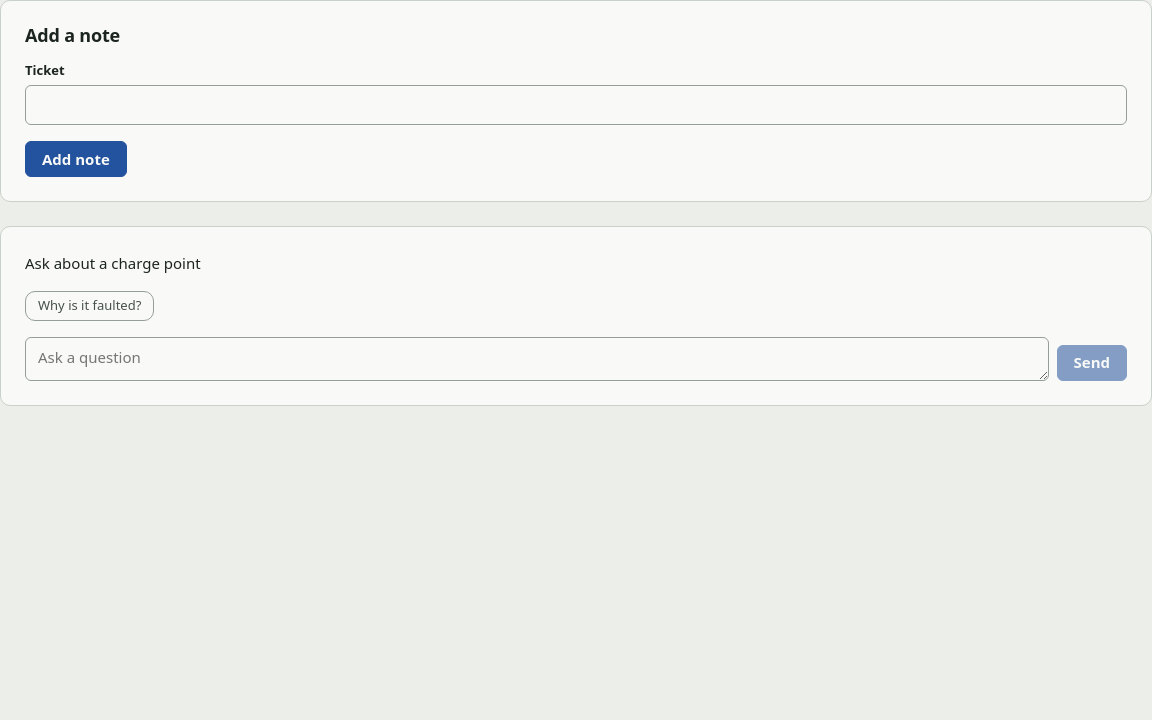
Test: running an app › confirms with the header the API requires
Step 1. Type "T-2" into the field labelled "Ticket" → (576, 105), box [25, 85, 1127, 125]
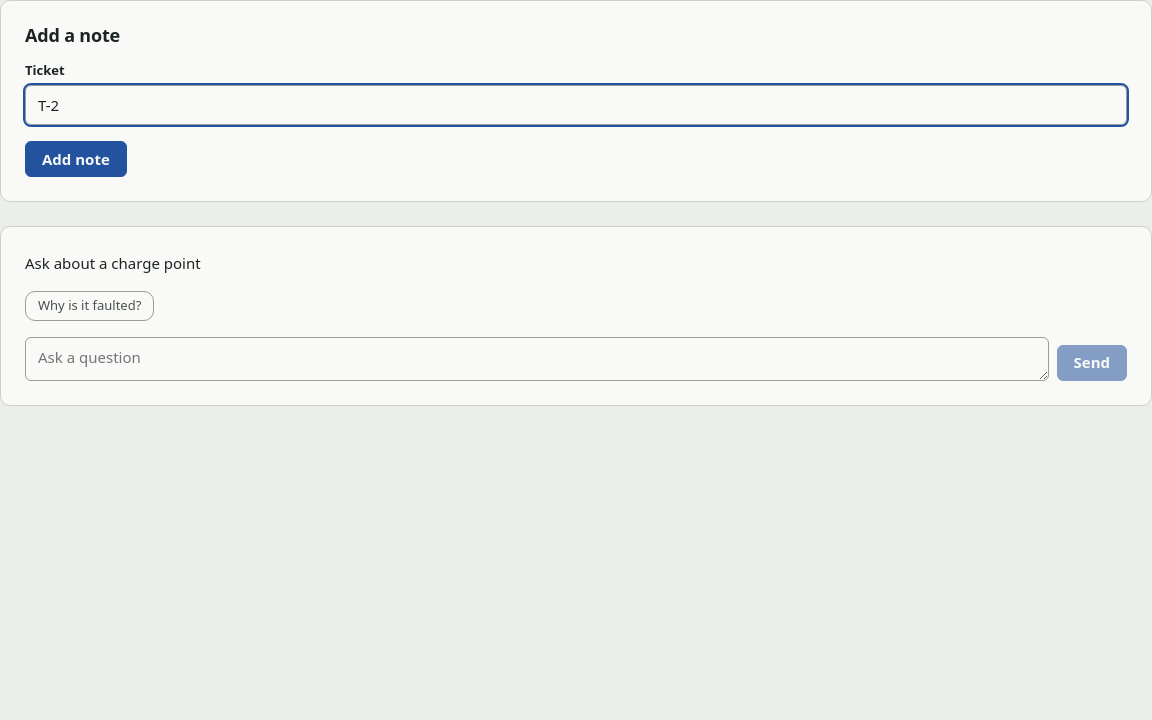
Step 2. Click the button "Add note" → (76, 159), box [25, 141, 127, 177]
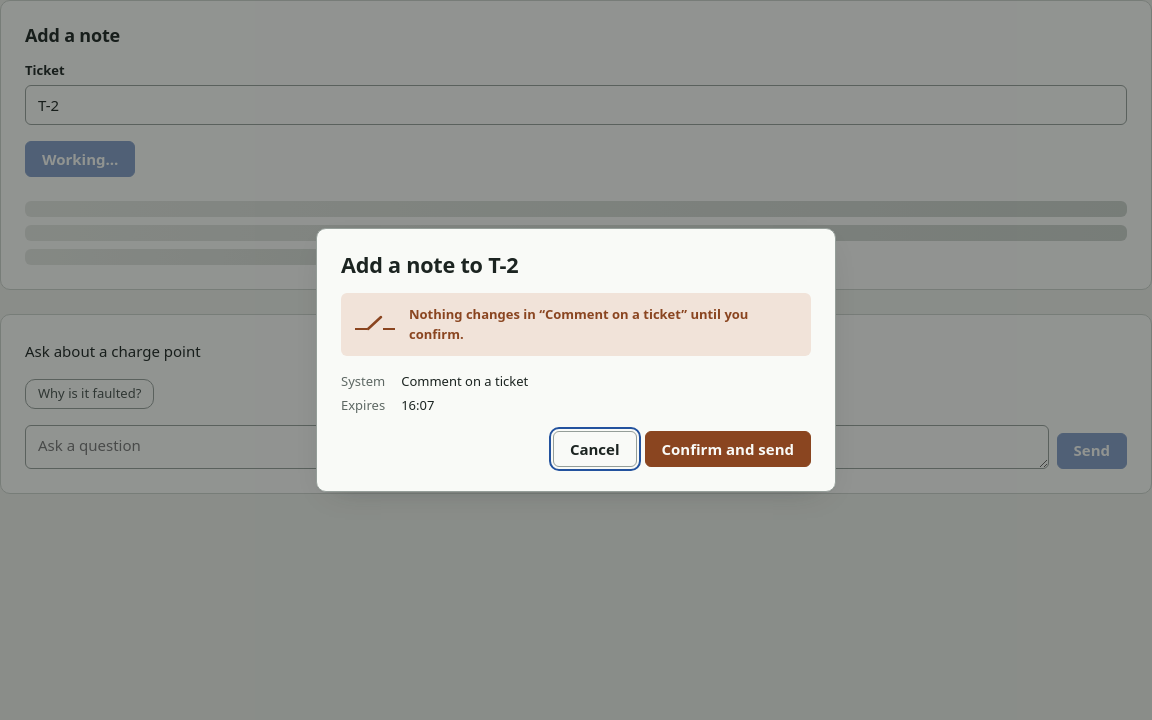
Step 3. Click the button "Confirm and send" → (728, 449), box [644, 431, 811, 467]
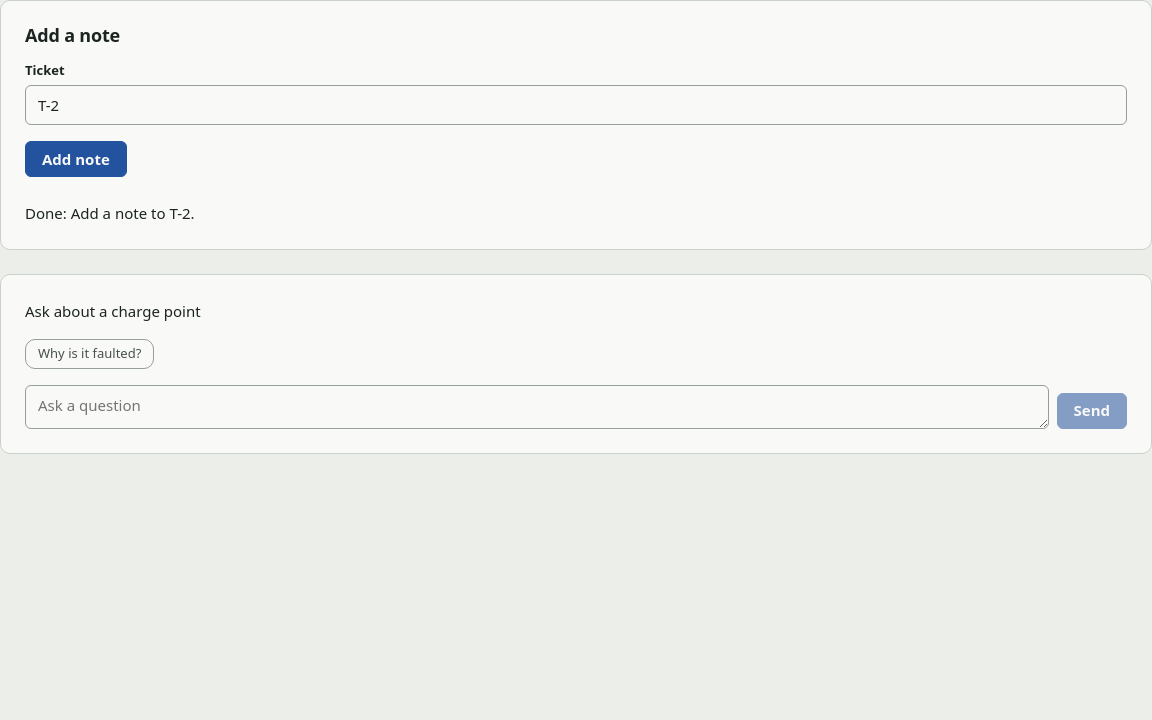
Result: the text "Done: Add a note to T-2." is shown at [25, 203, 195, 223]
